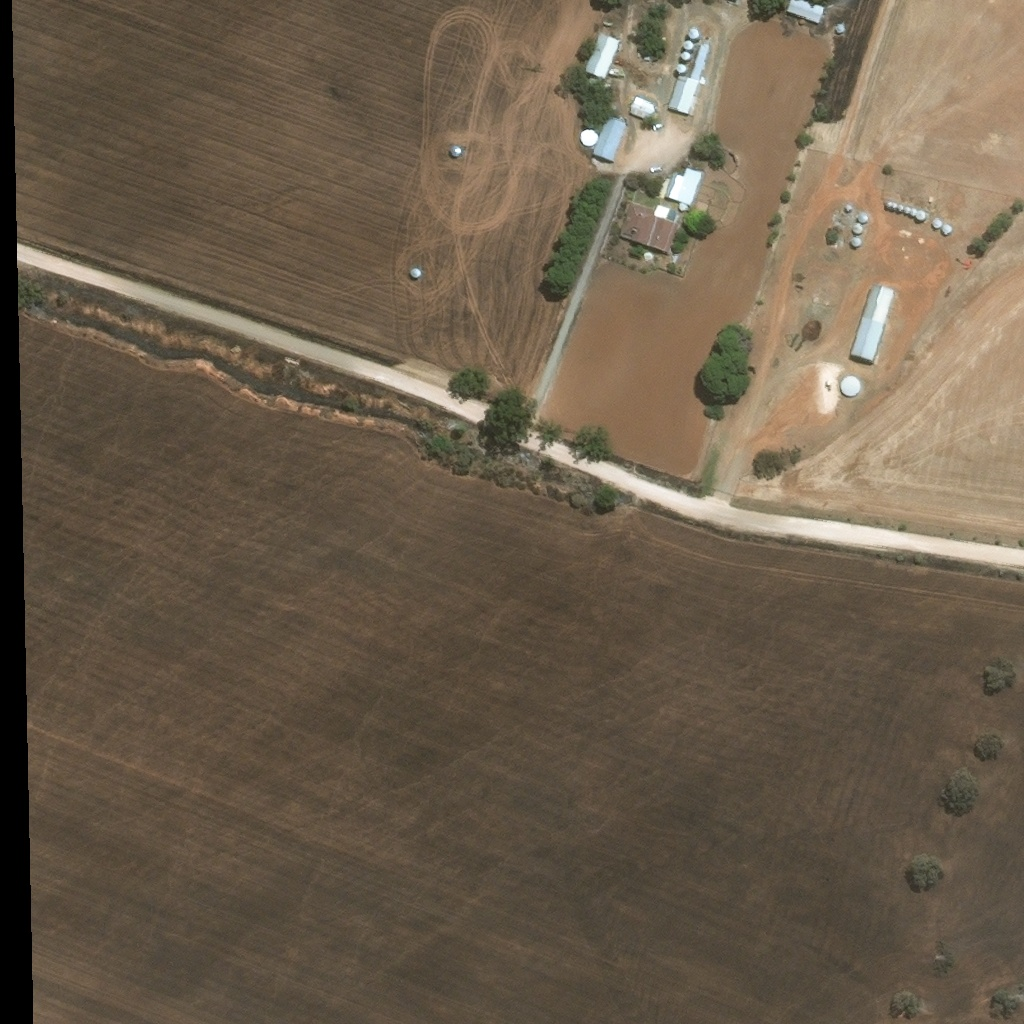0 no-damage: (849, 282, 896, 363), (619, 205, 677, 254), (667, 43, 707, 114), (584, 30, 620, 77), (592, 115, 626, 162), (665, 166, 703, 205), (628, 96, 656, 121), (839, 374, 860, 397), (579, 128, 598, 146), (654, 203, 670, 218), (848, 235, 862, 247), (895, 203, 910, 213), (852, 222, 864, 234), (555, 172, 567, 184), (688, 26, 701, 37), (780, 383, 791, 395), (915, 208, 926, 220), (683, 37, 694, 48), (857, 211, 869, 221), (941, 224, 951, 235), (543, 144, 553, 155), (931, 218, 941, 228), (681, 49, 691, 59), (677, 61, 687, 71), (641, 252, 652, 261), (835, 23, 844, 33), (678, 202, 687, 211), (909, 207, 917, 215), (845, 203, 852, 211), (885, 200, 892, 208), (891, 201, 897, 209)
